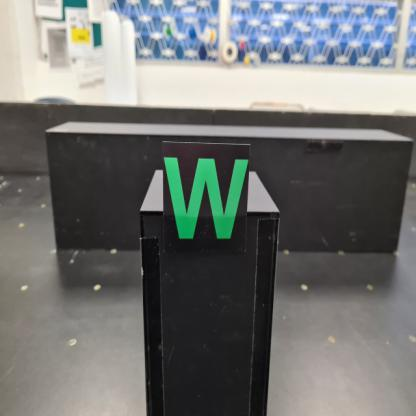w: (162, 140, 251, 257)
